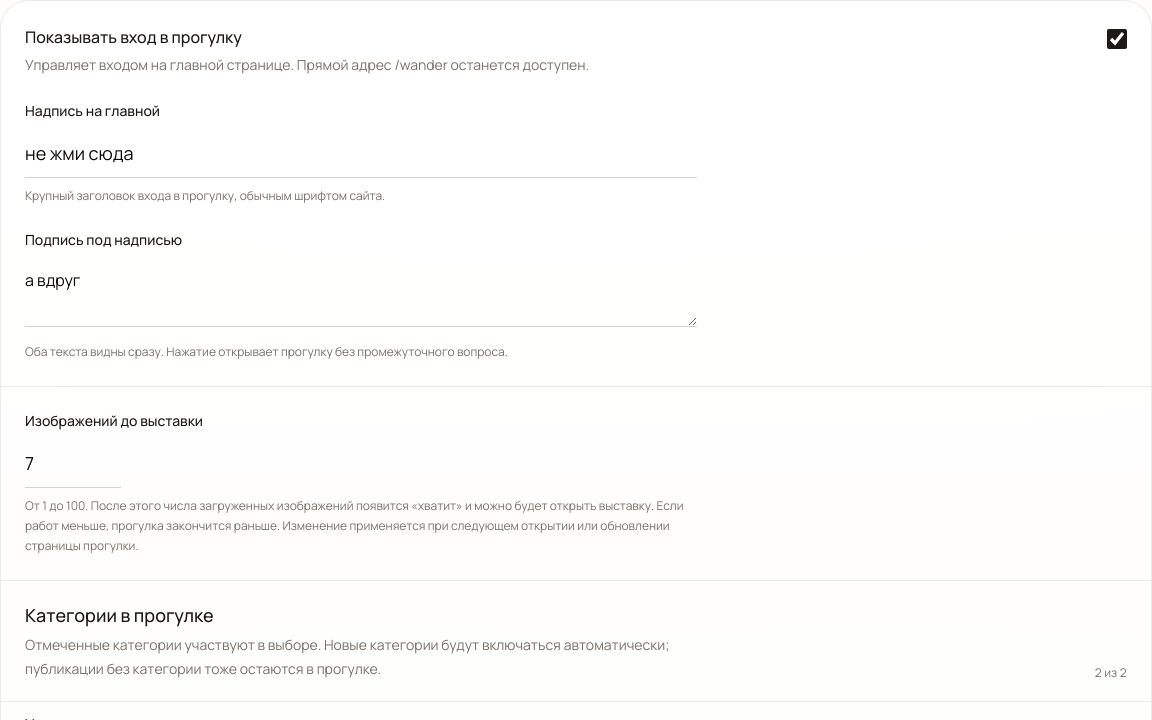
Test: настройки прогулки › не отправляет некорректное количество 2.5
This screenshot has width=1152, height=720.
Replace the text in the number field labelled "Изображений до выставки" with "2.5" at coordinates (73, 463), box [25,438,121,488]
(page scrolled)
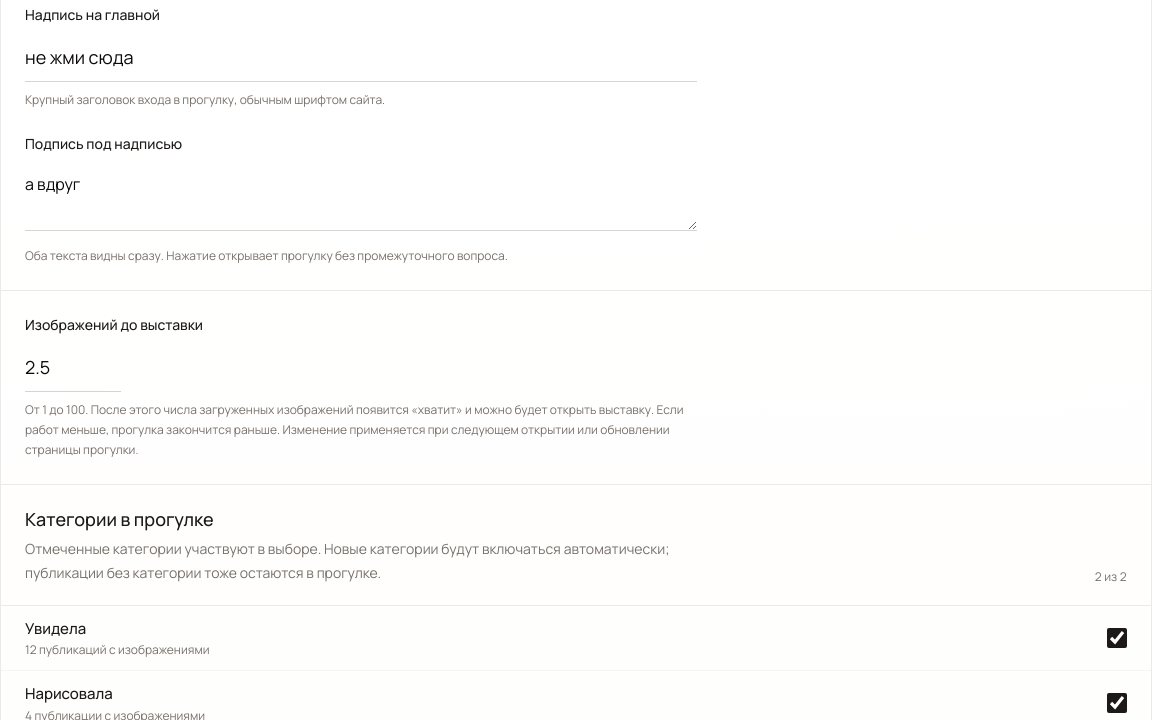
Submit the form
(page scrolled)
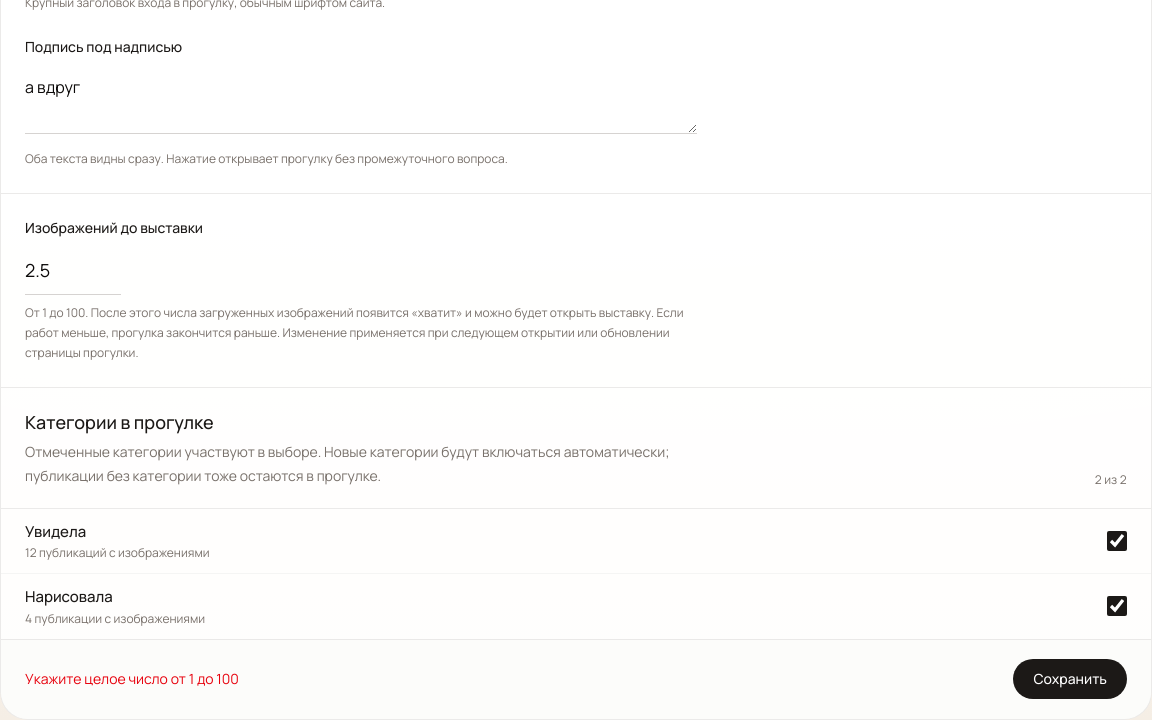
Expected: the message reads "Укажите целое число от 1 до 100", [25,669,239,688]
